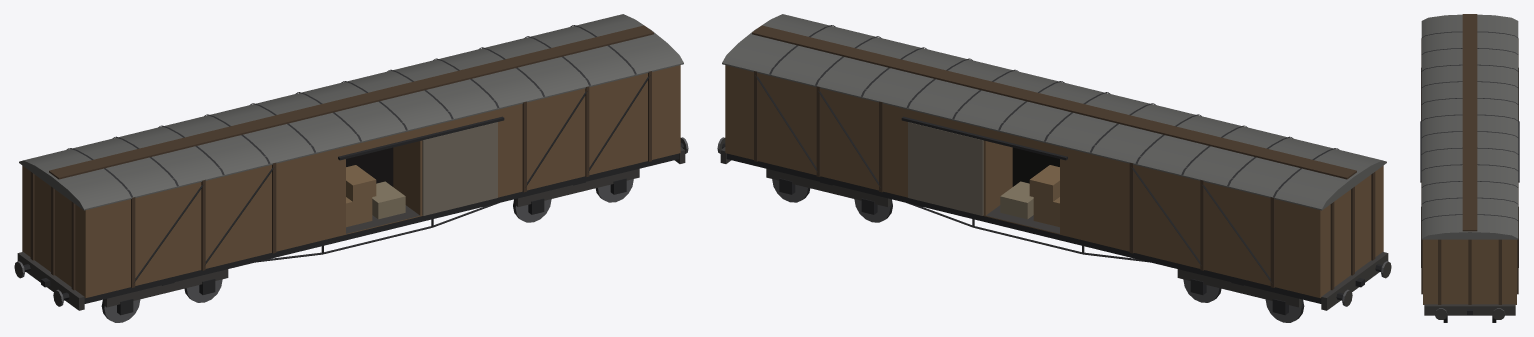
File: freight_open.glb
3 renders of one model, left to right at view 1: azimuth 30°, elevation 25°; view 2: azimuth 150°, elevation 25°; view 3: azimuth 270°, elevation 25°, orthographic. The views are drawn at different scales.
Parts seen in each view (by area): view 1: freight_open_LOD0; view 2: freight_open_LOD0; view 3: freight_open_LOD0.
Part boxes in pixels (x1,y1,x2,y2): freight_open_LOD0: [14, 14, 688, 322]; freight_open_LOD0: [717, 14, 1391, 322]; freight_open_LOD0: [1420, 14, 1519, 322].
Size of what is drawn, in the model's own units: 16 by 3.61 by 2.96.
1 material, 1 textured.
